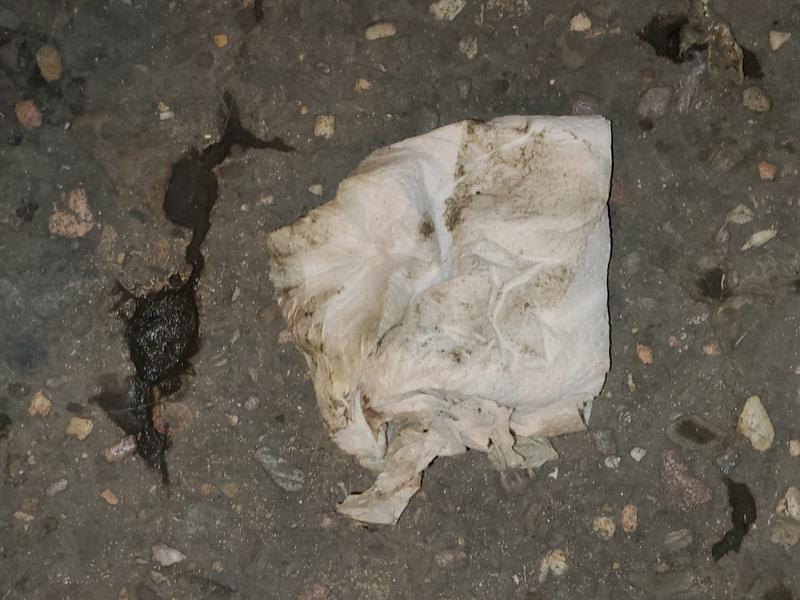papel: (266, 114, 613, 527)
